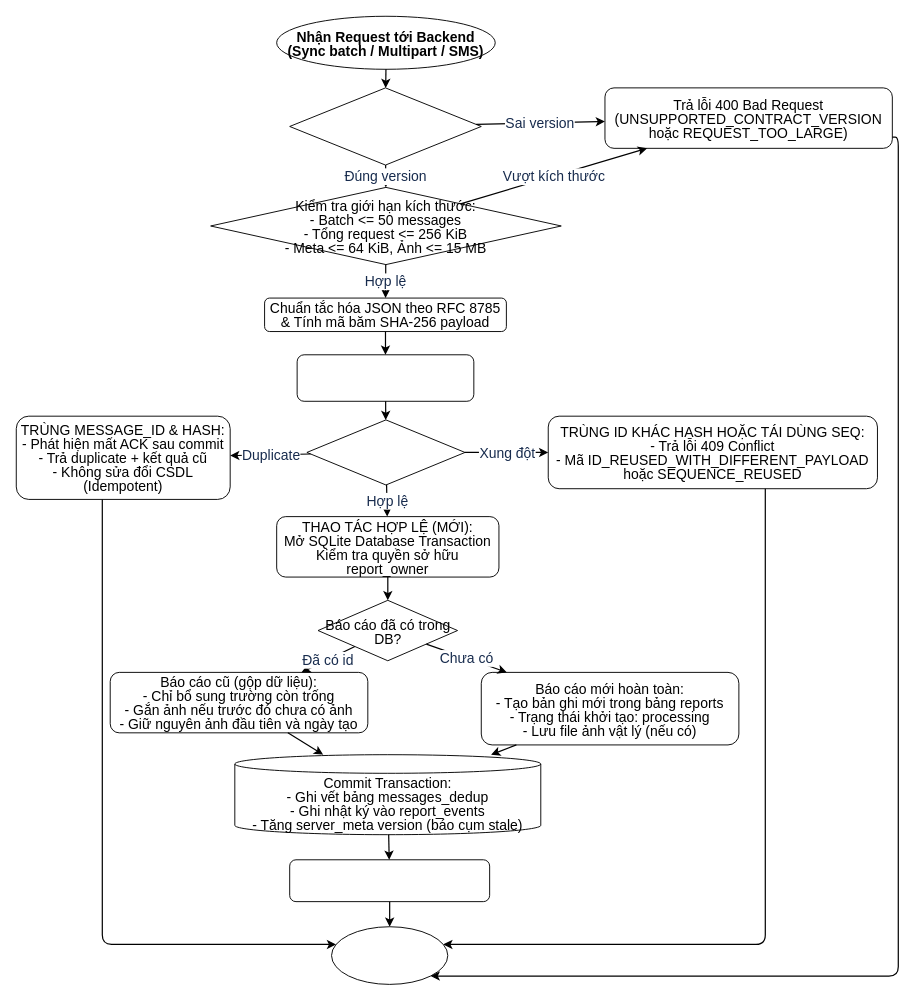
The diagram is 923 pixels wide and 1001 high, and some of its shapes have lost their labels. The shapes that lost their labels are listed below. From the top down, each one's centre as x and y in pixels, then its label:
(x=385, y=126): Kiểm tra header bắt buộc: X-Message-Contract-Version: 1
(x=385, y=377): Tra cứu bảng messages_dedup theo message_id & client_id
(x=385, y=452): Kết quả đối chiếu chống trùng lặp?
(x=389, y=880): Trả phản hồi HTTP cho Client (accepted / 201 Created)
(x=389, y=955): Kết thúc xử lý
